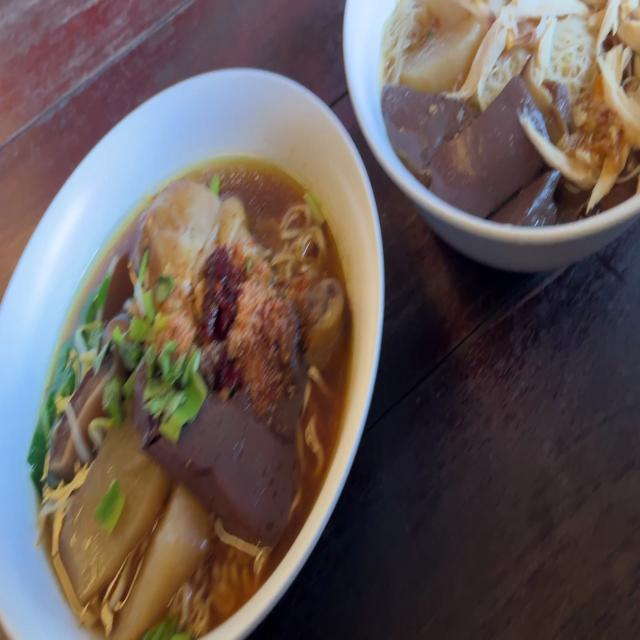noodle: (393, 78, 560, 220), (173, 384, 298, 527)
